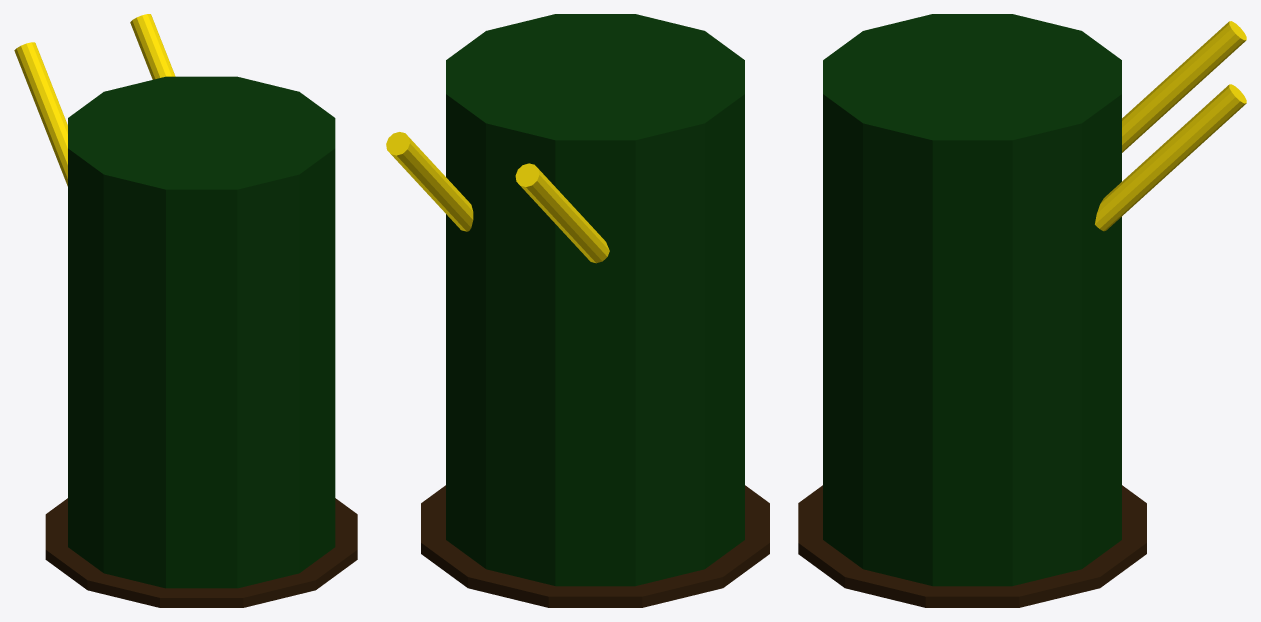
3 renders of one model, left to right at view 1: azimuth 30°, elevation 25°; view 2: azimuth 150°, elevation 25°; view 3: azimuth 270°, elevation 25°, orthographic. The views are drawn at different scales.
Visible parts, largest first — view 1: tower, base, gun1, gun2; view 2: tower, base, gun1, gun2; view 3: tower, base, gun2, gun1.
Boxes of the visible parts, x1,y1,x2,y2 form: tower: (68,76,335,588); base: (45,498,357,607); gun1: (14,42,67,186); gun2: (130,14,175,79); tower: (446,14,744,586); base: (421,485,769,607); gun1: (515,163,609,263); gun2: (386,132,473,231); tower: (823,14,1121,586); base: (798,485,1146,607); gun2: (1095,84,1246,231); gun1: (1122,21,1246,152).
Size of the model in its own units: 87.5 by 133 by 113.
3 materials, 3 textured.
